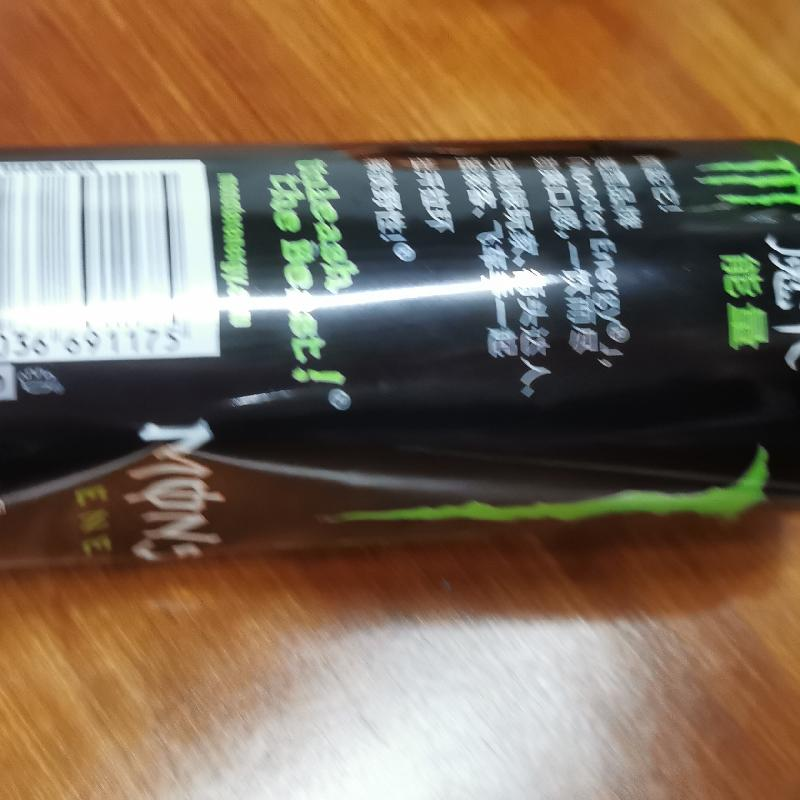cans: (4, 134, 799, 562)
